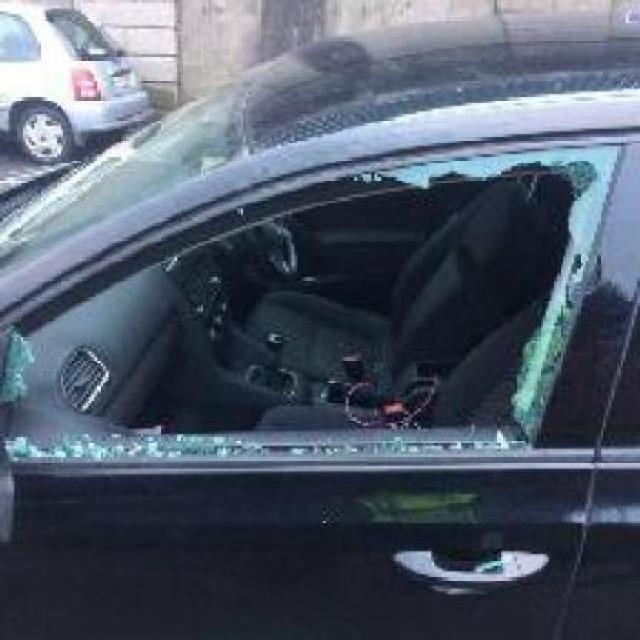damaged-window: (6, 134, 632, 463)
